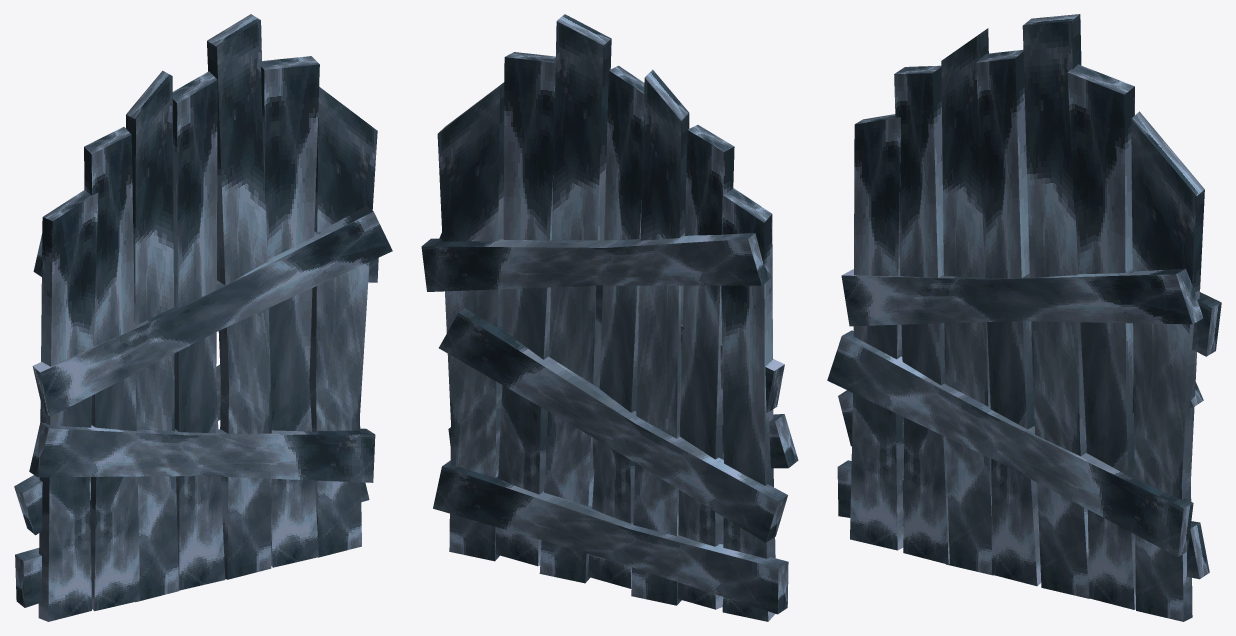
Rendered from item_castle_door_ice.glb.
The picture shows the model from 3 angles, left to right: view 1: azimuth 30°, elevation 25°; view 2: azimuth 150°, elevation 25°; view 3: azimuth 330°, elevation 25°; orthographic projection. The views are drawn at different scales.
Visible parts, largest first — view 1: Door; view 2: Door; view 3: Door.
Boxes of the visible parts, x1,y1,x2,y2 form: Door: [14, 14, 392, 621]; Door: [421, 14, 798, 621]; Door: [827, 14, 1221, 621].
Bounding box in the file's own units: 1.12 × 1.66 × 0.1403.
Materials: 1 (1 with a texture image).
